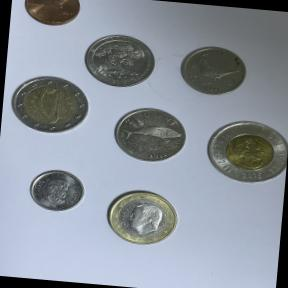coin: (198, 113, 288, 192), (5, 71, 95, 142), (98, 184, 186, 253), (107, 101, 194, 170), (78, 28, 164, 94), (24, 164, 88, 218), (15, 0, 87, 34)
